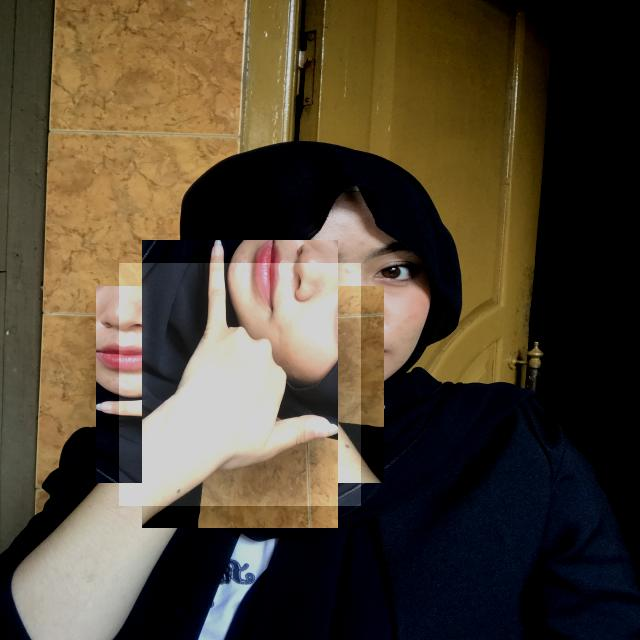telpon: (119, 263, 361, 506)
